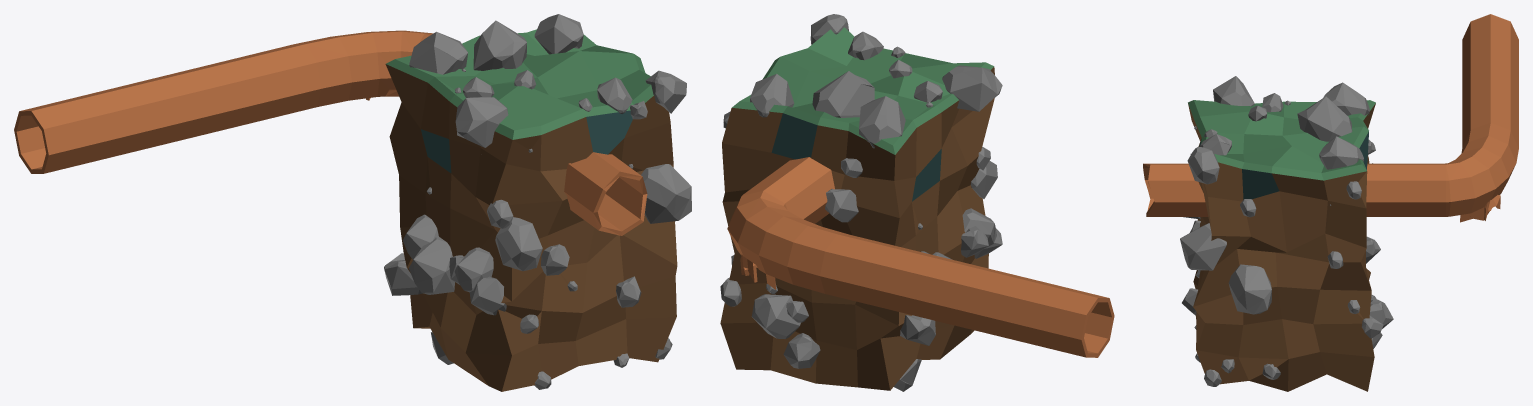
Rendered from platform_big.fbx.
3 renders of one model, left to right at view 1: azimuth 30°, elevation 25°; view 2: azimuth 150°, elevation 25°; view 3: azimuth 270°, elevation 25°, orthographic. The views are drawn at different scales.
Parts seen in each view (by area): view 1: Cube.003, Vert.007; view 2: Cube.003, Vert.007; view 3: Cube.003, Vert.007.
Part boxes in pixels (x1,y1,x2,y2): Cube.003: (384,14,691,391); Vert.007: (14,30,647,235); Cube.003: (720,14,1002,391); Vert.007: (727,157,1114,357); Cube.003: (1180,76,1393,391); Vert.007: (1143,14,1518,222).
Size of the model in its own units: 4944 by 3173 by 3983.
